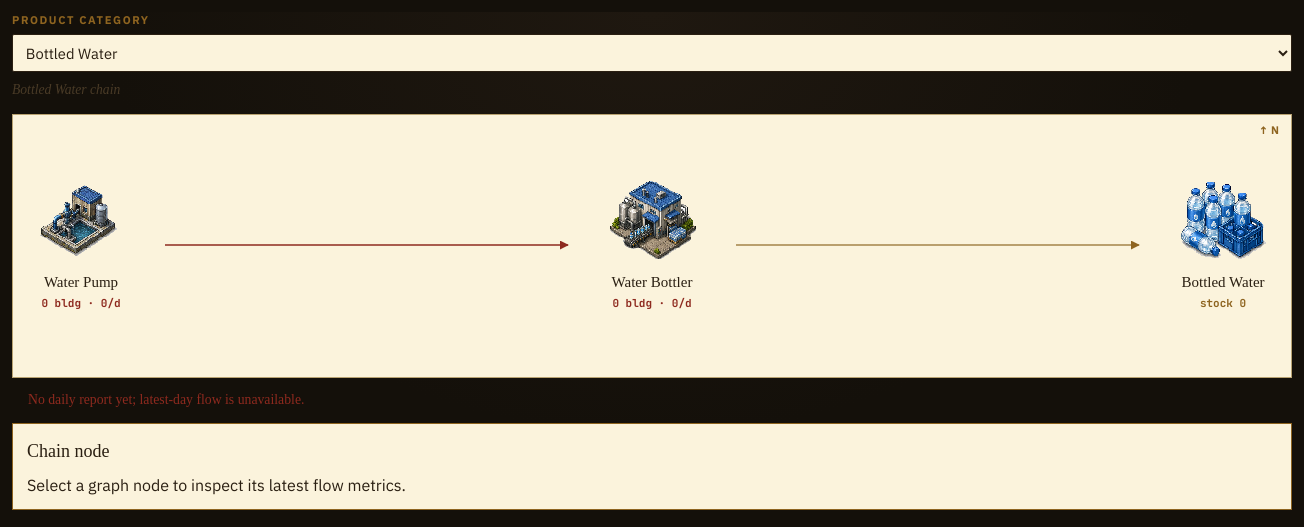
Scenario: StoreProductChainPanel › switches the graph when the product category changes
The image size is (1304, 527).
Step 1. Select "Soft Drinks" in the dropdown labelled "Product category" → (652, 53), box [12,34,1292,72]
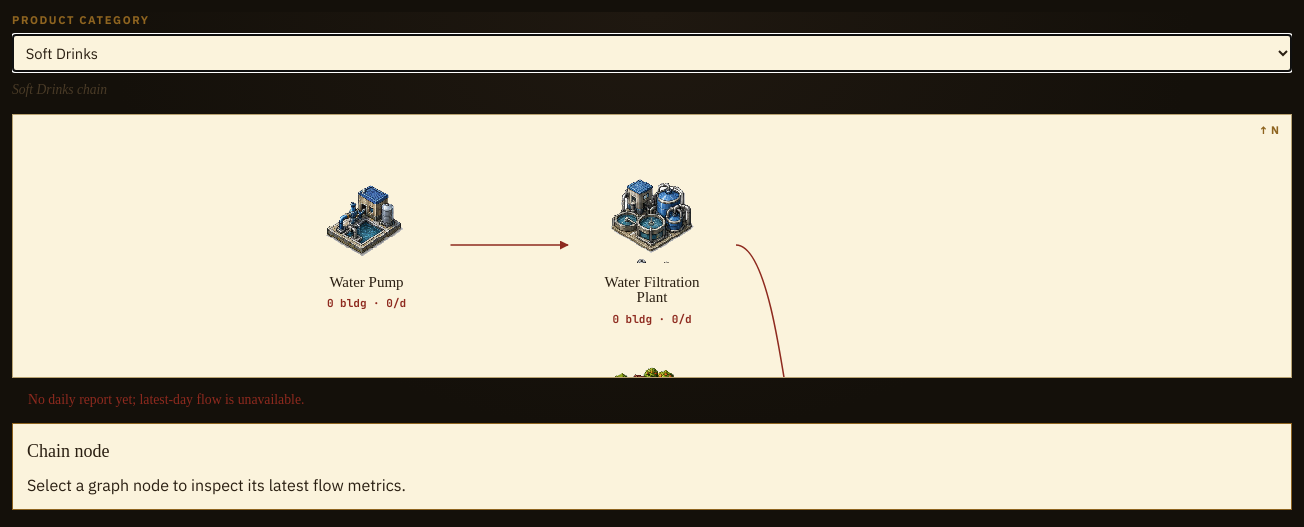
Expected: the text with class "chain-title" reads "Soft Drinks chain", [12,82,107,97]
